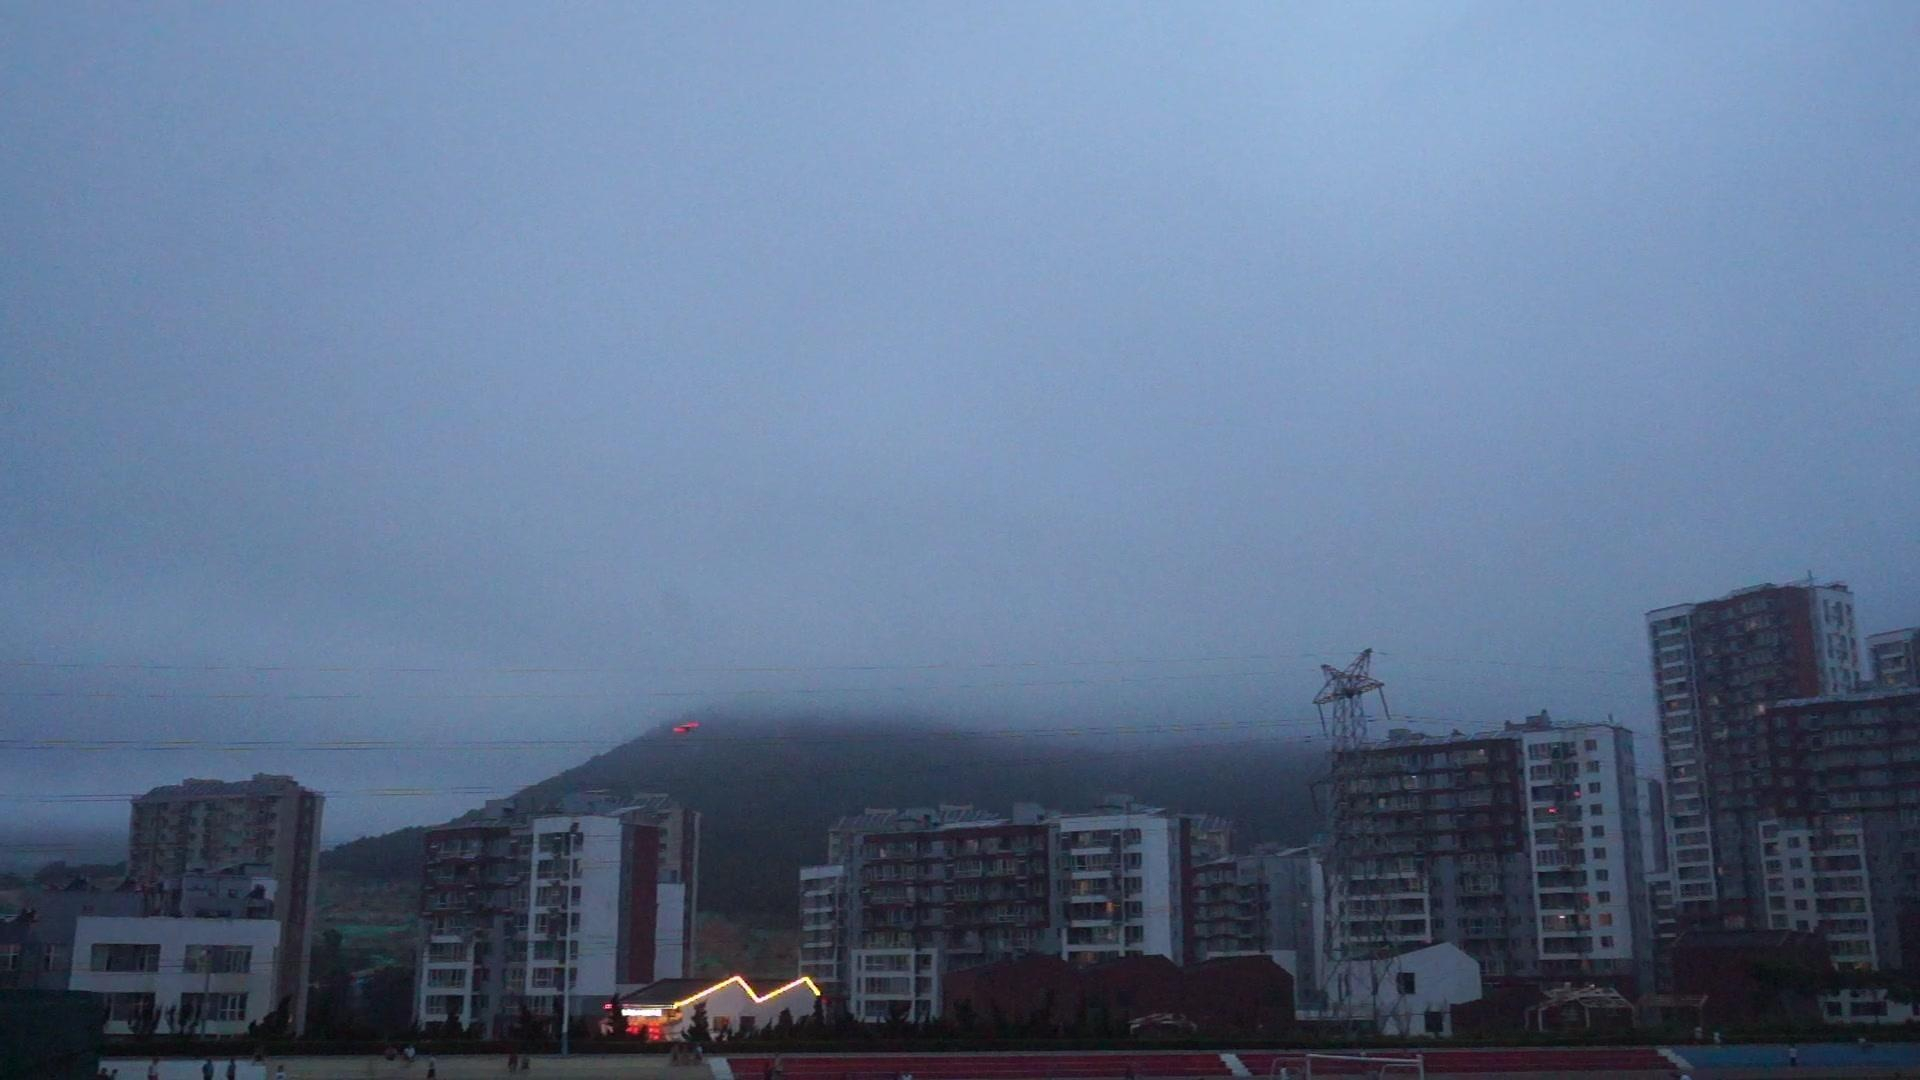UAV: (673, 723, 703, 735)
